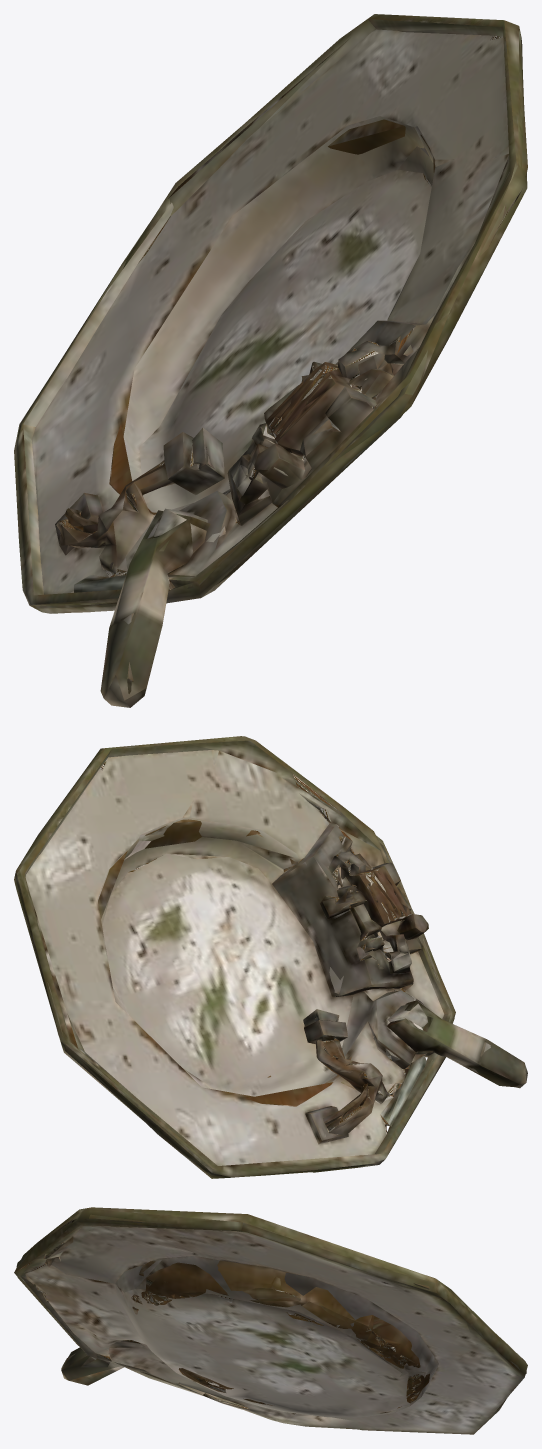
Rendered from fanshuo-plate.glb.
3 renders of one model, top to bottom at view 1: azimuth 30°, elevation 25°; view 2: azimuth 150°, elevation 25°; view 3: azimuth 270°, elevation 25°, orthographic. The views are drawn at different scales.
Visible parts, largest first — view 1: world; view 2: world; view 3: world.
Boxes of the visible parts, x1,y1,x2,y2 form: world: (14, 14, 527, 707); world: (14, 736, 527, 1178); world: (14, 1207, 527, 1434).
Bounding box in the file's own units: 0.2246 × 0.2028 × 0.26.
1 material, 1 textured.
